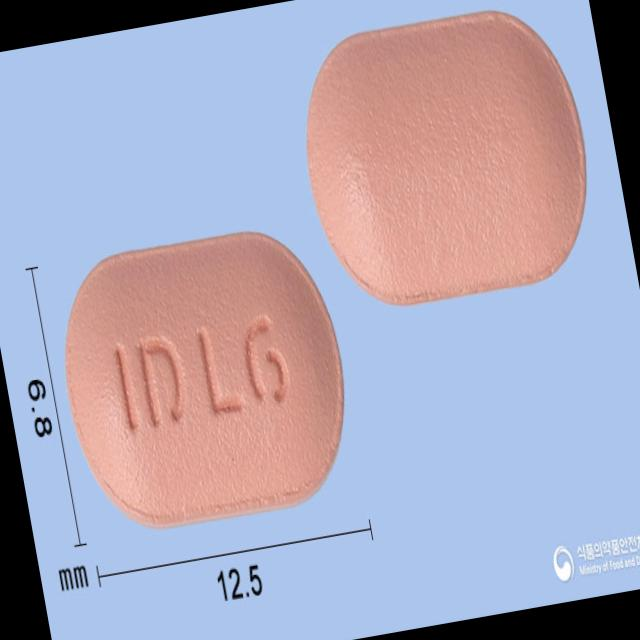Levofexin - 500mg: (45, 219, 366, 541)
